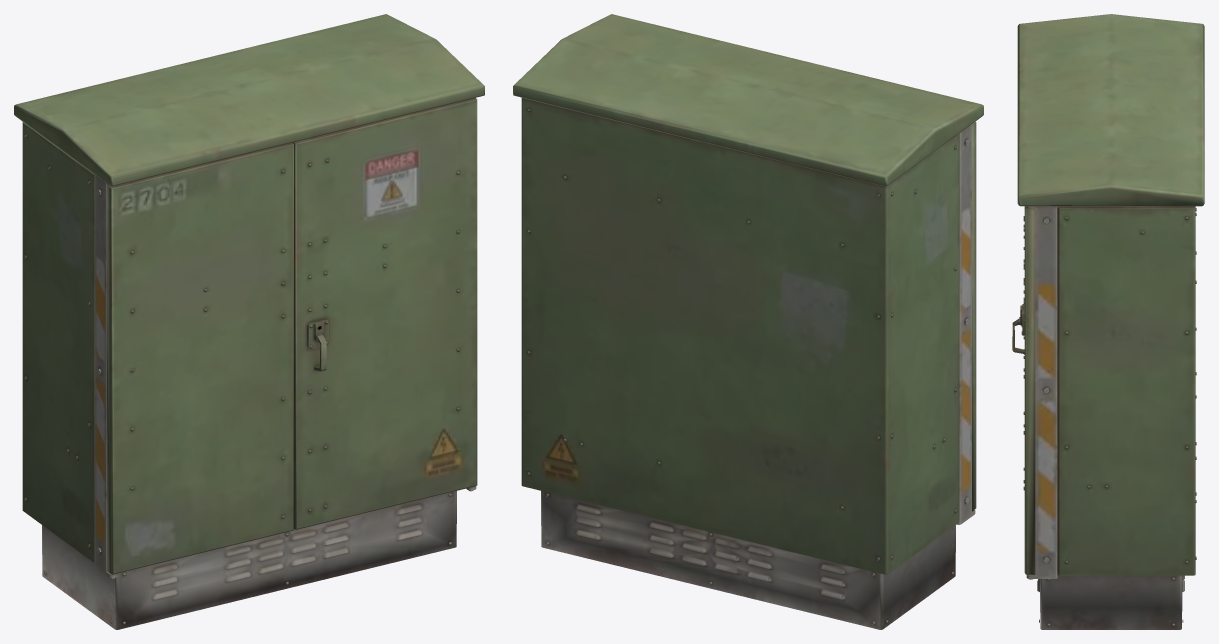
File: utilityBox.glb
3 renders of one model, left to right at view 1: azimuth 30°, elevation 25°; view 2: azimuth 150°, elevation 25°; view 3: azimuth 270°, elevation 25°, orthographic. The views are drawn at different scales.
Parts seen in each view (by area): view 1: utility_box_02; view 2: utility_box_02; view 3: utility_box_02.
Boxes of the visible parts, x1,y1,x2,y2 form: utility_box_02: [14, 14, 484, 629]; utility_box_02: [513, 14, 983, 629]; utility_box_02: [1012, 14, 1204, 629].
Bounding box in the file's own units: 0.92 × 1.12 × 0.432.
1 material, 1 textured.
